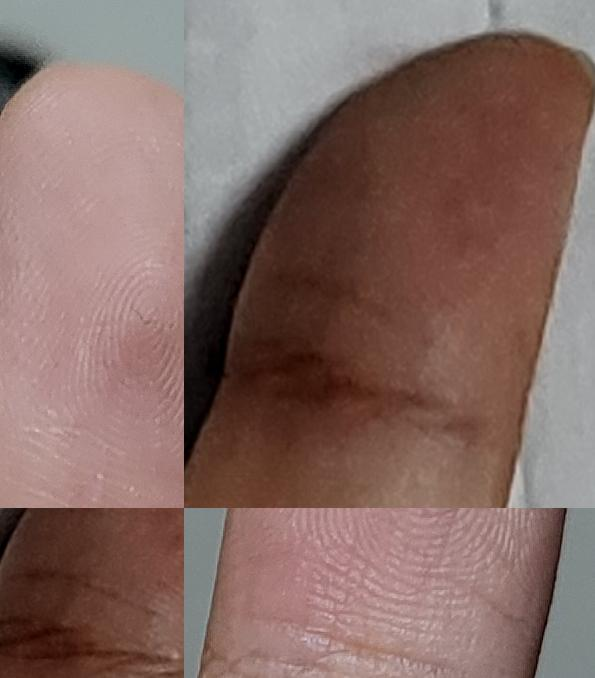Fingerprints: (224, 30, 595, 397), (0, 63, 184, 508), (208, 508, 567, 678), (0, 508, 184, 641)
